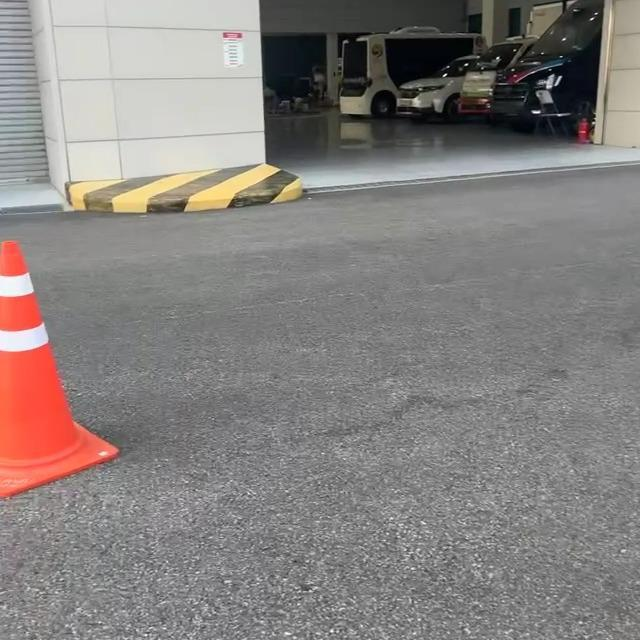fallen_object: (0, 247, 128, 481)
